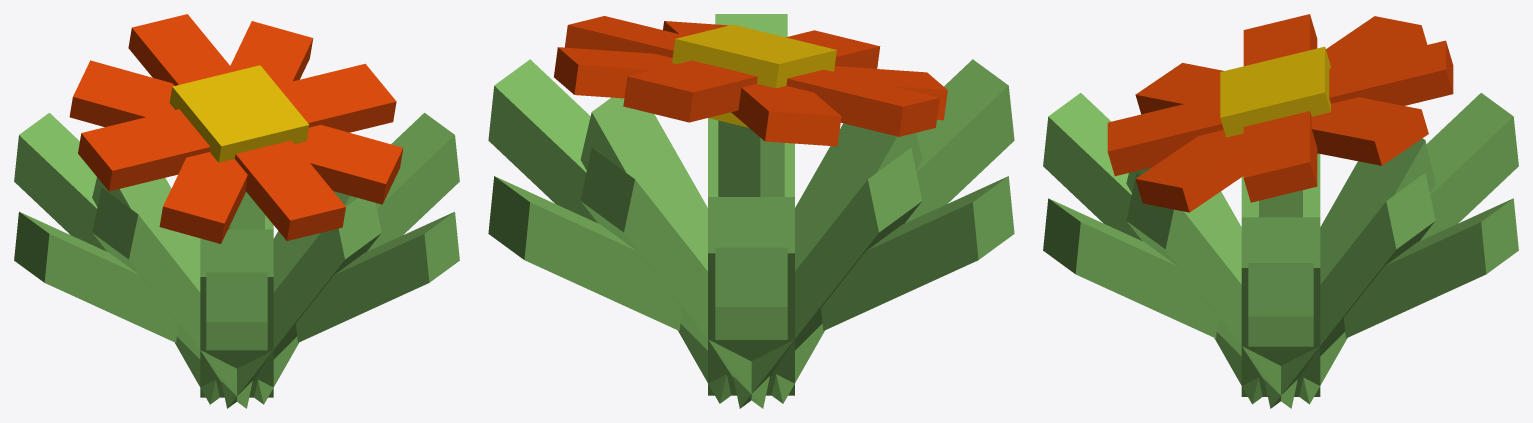
The model's file is SM_Flower_02_A.fbx.
3 views of the same model, side by side, from view 1: azimuth 30°, elevation 25°; view 2: azimuth 150°, elevation 25°; view 3: azimuth 270°, elevation 25° (orthographic). The views are drawn at different scales.
Parts seen in each view (by area): view 1: pCube427; view 2: pCube427; view 3: pCube427.
Boxes of the visible parts, left/top/right/bottom form: pCube427: left=14, top=14, right=459, bottom=408; pCube427: left=488, top=14, right=1014, bottom=408; pCube427: left=1043, top=14, right=1518, bottom=408.
Bounding box in the file's own units: 28.57 × 20.78 × 26.56.
